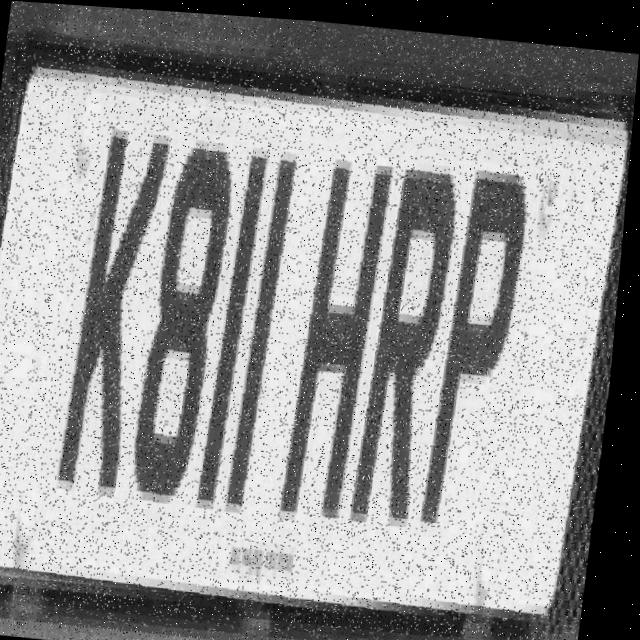LicensePlate: (0, 32, 638, 640)
